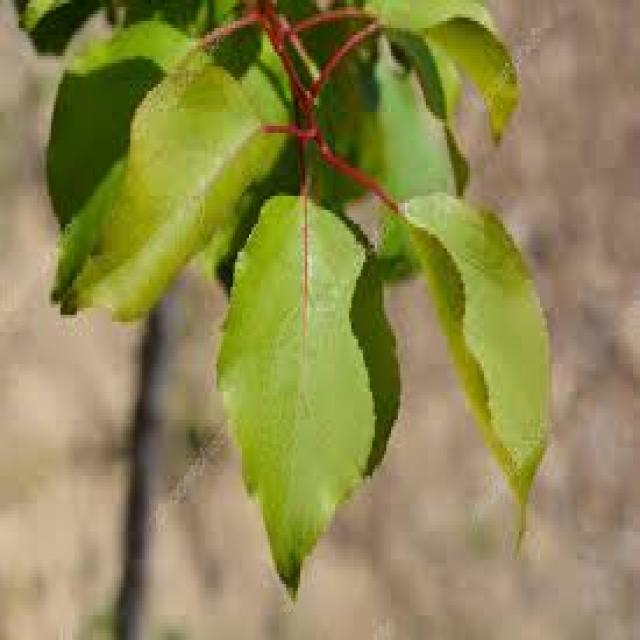yaprak: (2, 0, 640, 623)
